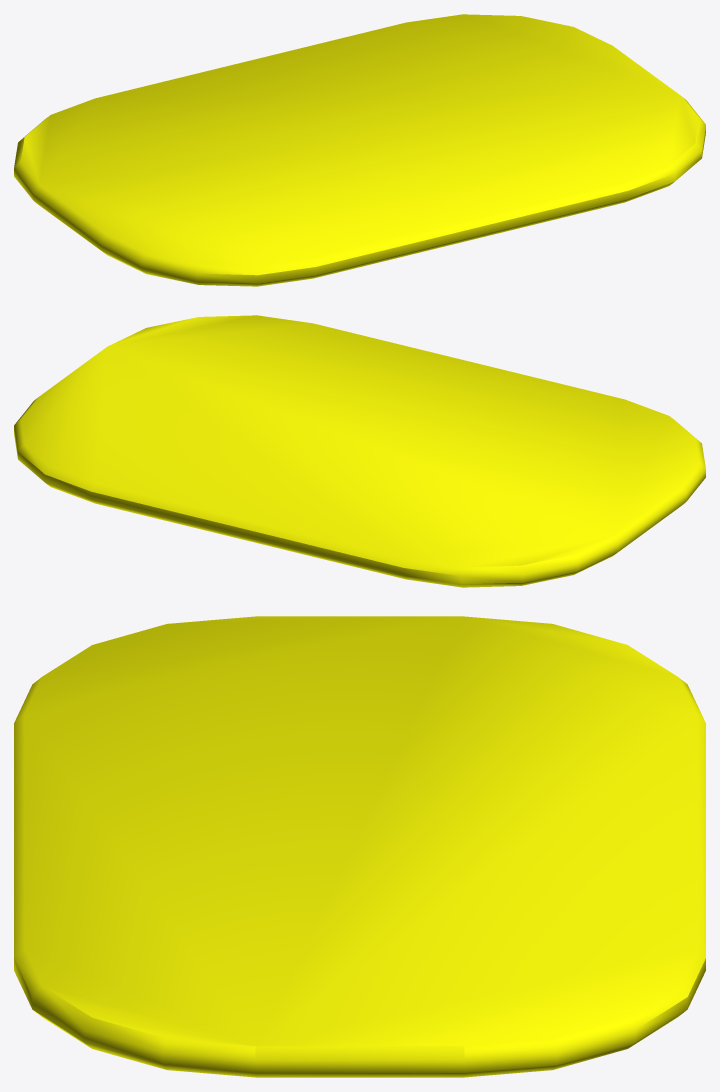
File: kaykit-rug-oval-a.glb
The picture shows the model from 3 angles, top to bottom: view 1: azimuth 30°, elevation 25°; view 2: azimuth 150°, elevation 25°; view 3: azimuth 270°, elevation 25°; orthographic projection. The views are drawn at different scales.
Visible parts, largest first — view 1: rug_oval_A; view 2: rug_oval_A; view 3: rug_oval_A.
Boxes of the visible parts, bbox=[...] form: rug_oval_A: bbox=[14, 14, 705, 286]; rug_oval_A: bbox=[14, 315, 705, 587]; rug_oval_A: bbox=[14, 616, 705, 1077].
Bounding box in the file's own units: 3 × 0.1 × 2.
